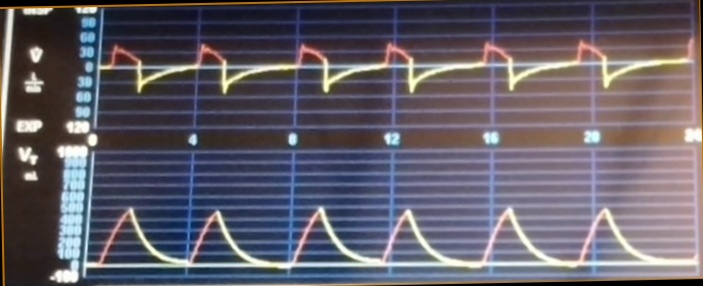Normal Flow: (102, 22, 694, 112)
Normal Volume: (91, 195, 695, 275)
